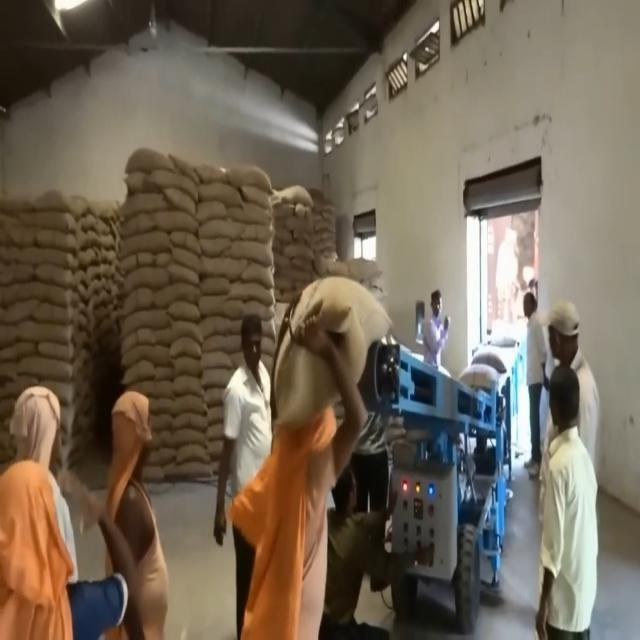gunny_bag: (266, 274, 406, 428), (223, 154, 275, 193), (0, 282, 73, 309), (17, 350, 77, 382), (172, 158, 234, 188), (218, 239, 274, 270), (14, 318, 78, 344), (118, 230, 172, 260), (120, 266, 170, 298), (18, 207, 76, 234), (32, 188, 96, 212), (148, 169, 196, 199), (118, 308, 168, 336), (460, 362, 500, 396), (198, 257, 250, 283), (123, 148, 171, 176), (226, 278, 274, 306), (16, 247, 74, 270), (156, 280, 205, 307), (33, 260, 77, 290), (198, 294, 242, 323), (152, 210, 200, 236), (30, 227, 78, 253), (200, 176, 243, 204), (118, 195, 168, 219), (272, 184, 318, 210), (228, 202, 271, 228), (169, 244, 207, 272), (30, 301, 75, 324), (168, 393, 208, 418), (197, 218, 247, 237), (199, 314, 235, 340), (472, 348, 509, 372), (122, 362, 157, 386), (168, 412, 210, 432), (166, 430, 208, 450), (36, 340, 74, 362), (173, 444, 208, 466), (170, 337, 203, 360), (172, 375, 204, 398), (164, 304, 200, 324), (201, 350, 235, 371)
